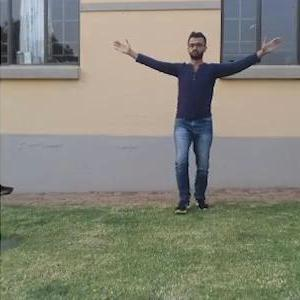takeoff: (113, 28, 275, 210)
